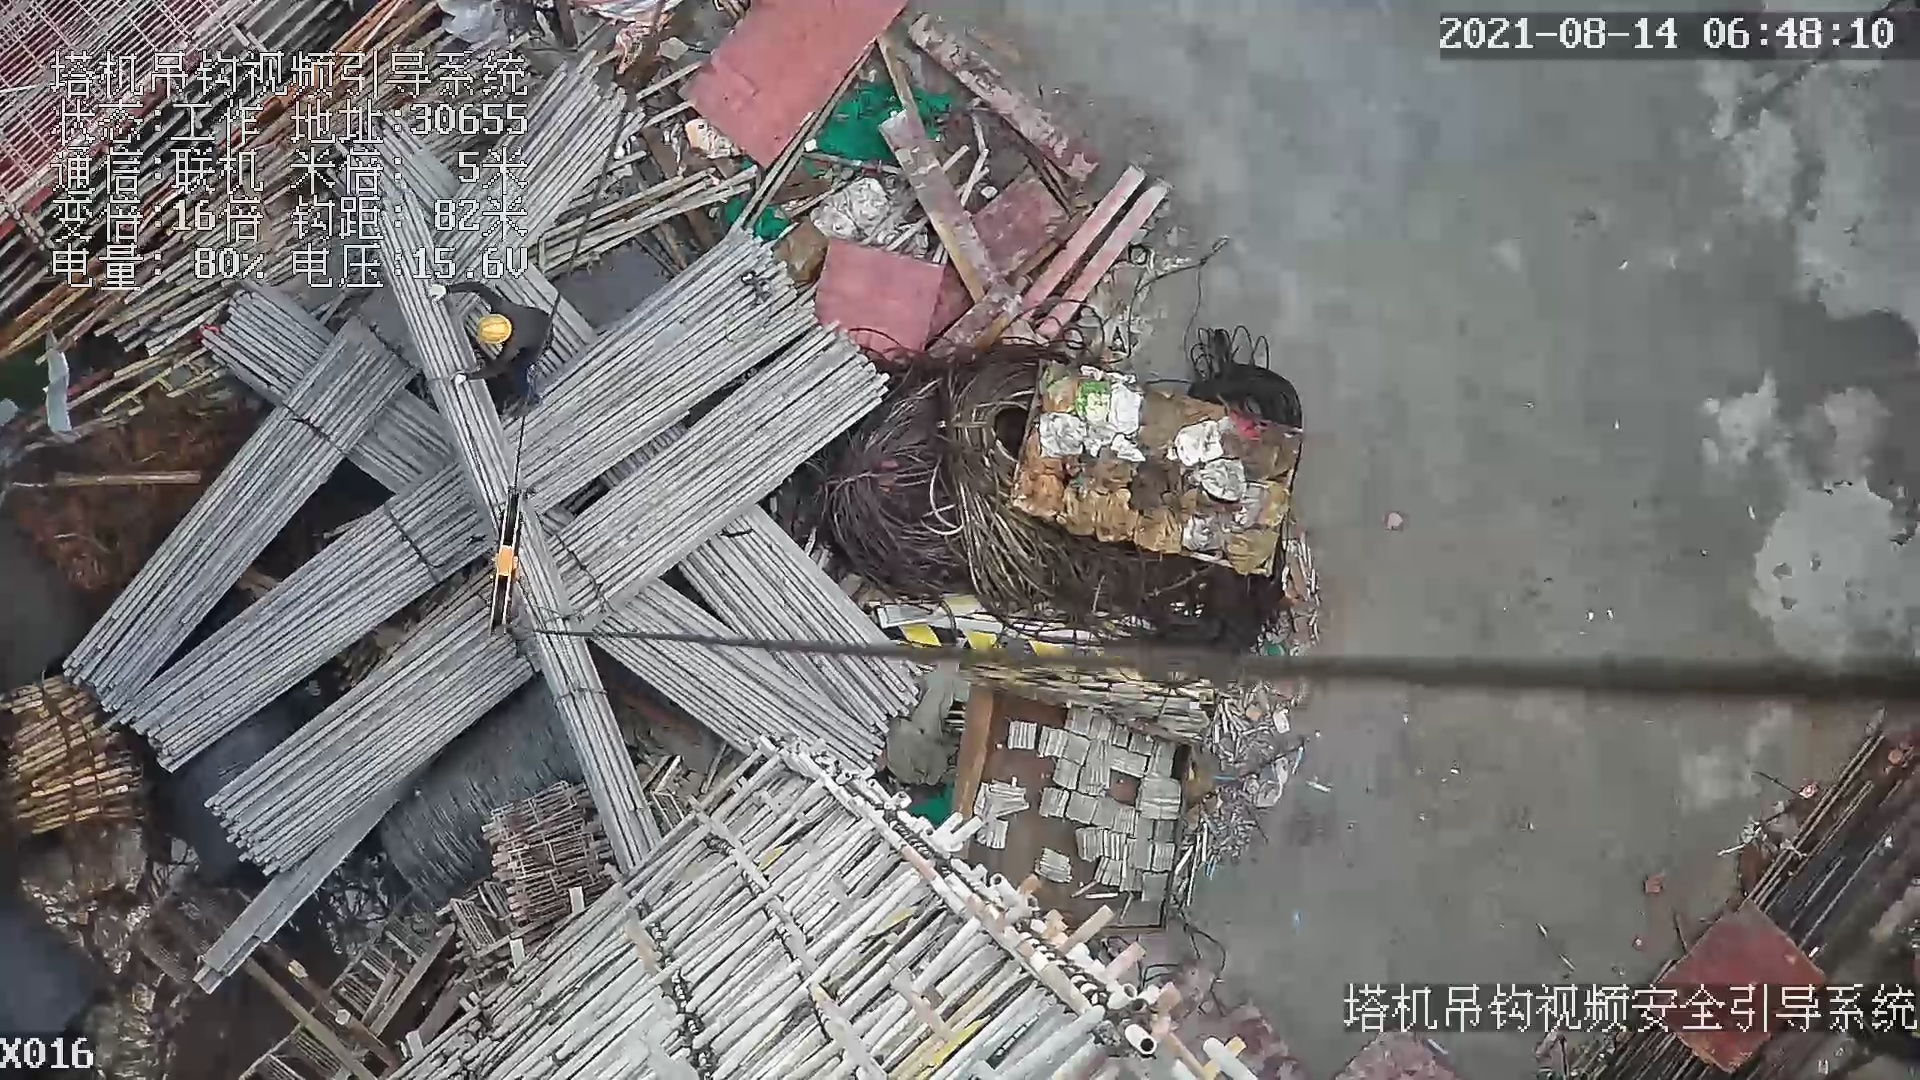board: (681, 1, 907, 161)
helmet: (471, 312, 512, 345)
hook: (482, 485, 520, 636)
person: (420, 276, 560, 400)
scaffold: (1, 679, 155, 826)
